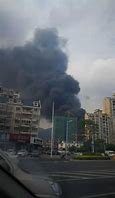smoke: (4, 26, 82, 114)
